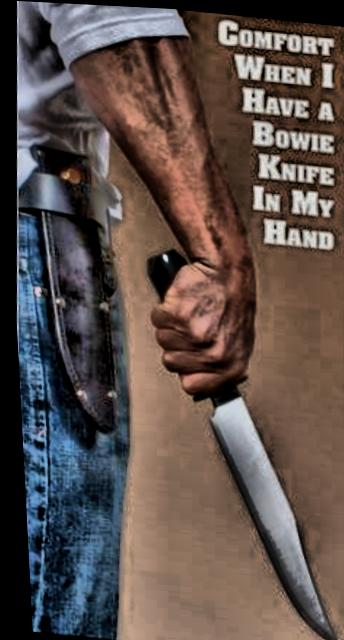knife: (123, 299, 344, 640)
